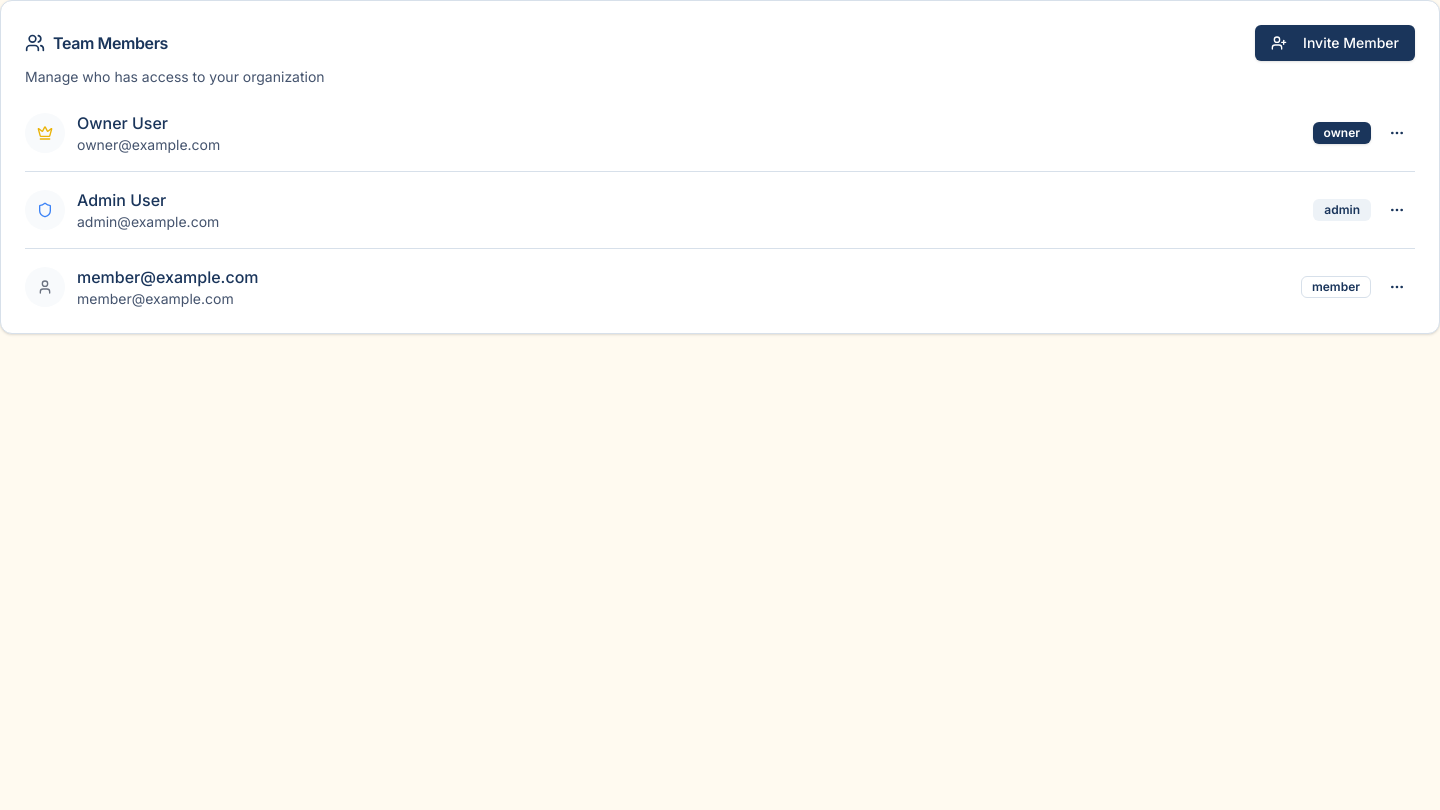
Test case: TeamSettings › opens invite dialog when button clicked
Click the button "Invite Member".
click(1335, 43)  # box [1255,25,1415,61]
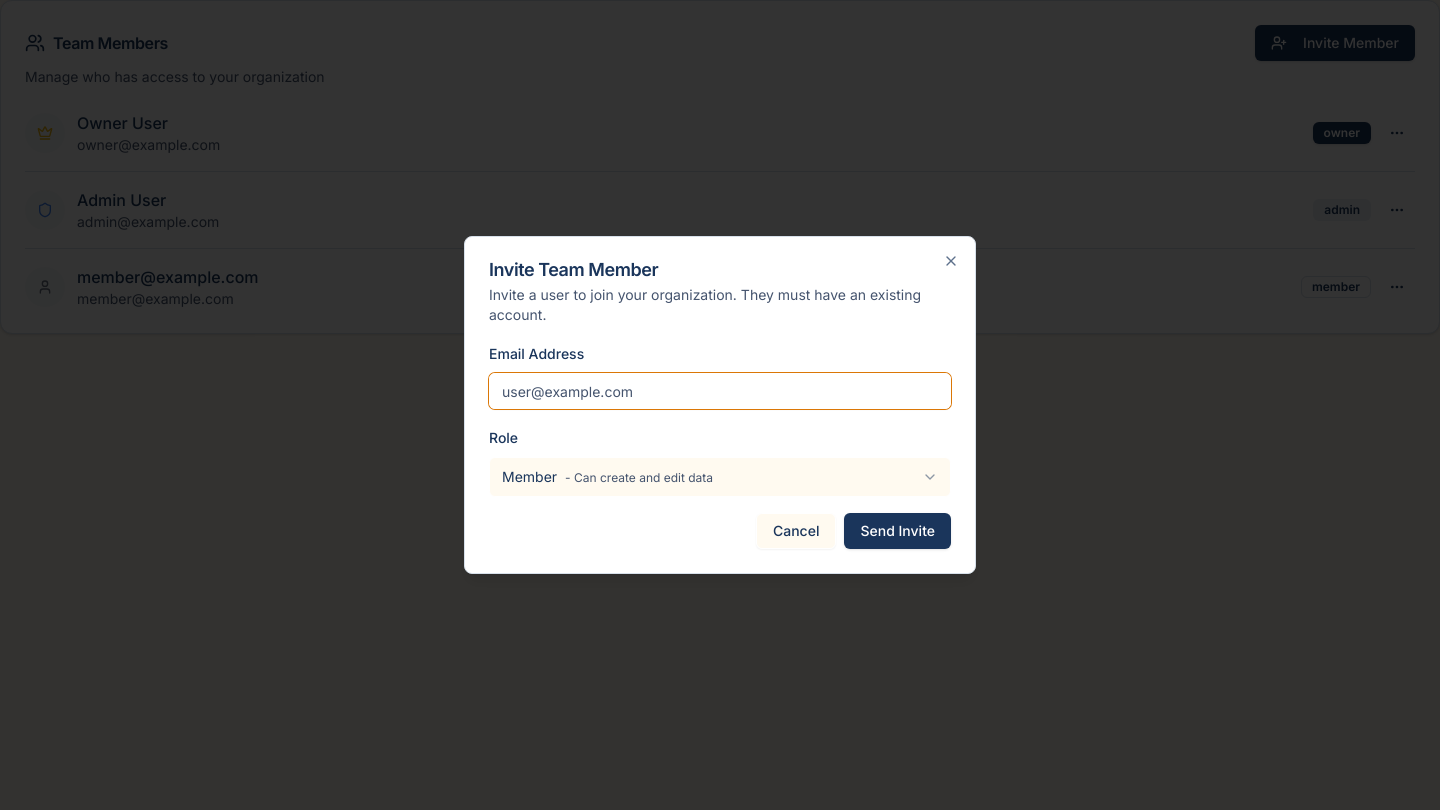
Result: the heading "Invite Team Member" is shown at [489,259,658,280]
Result: the field labelled "Email Address" is shown at [489,373,951,409]
Result: the dropdown named "Role" is shown at [489,457,951,497]
